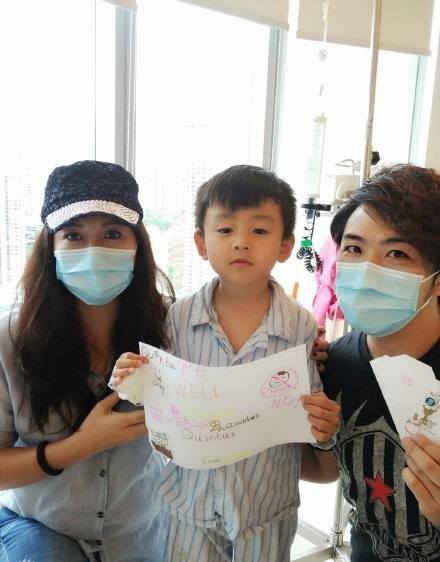face: (207, 192, 279, 287)
face_mask: (337, 207, 430, 334), (52, 200, 133, 307)
